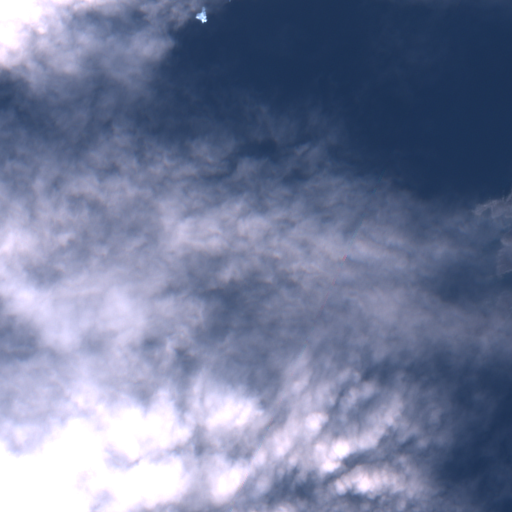Iceberg: (195, 6, 207, 23)
